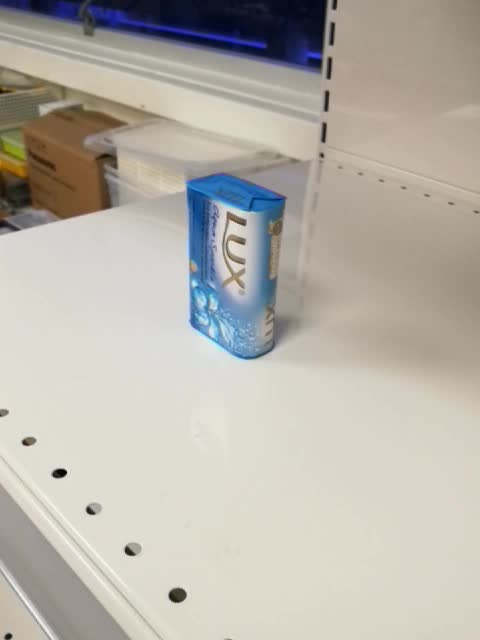soap: (185, 170, 287, 363)
